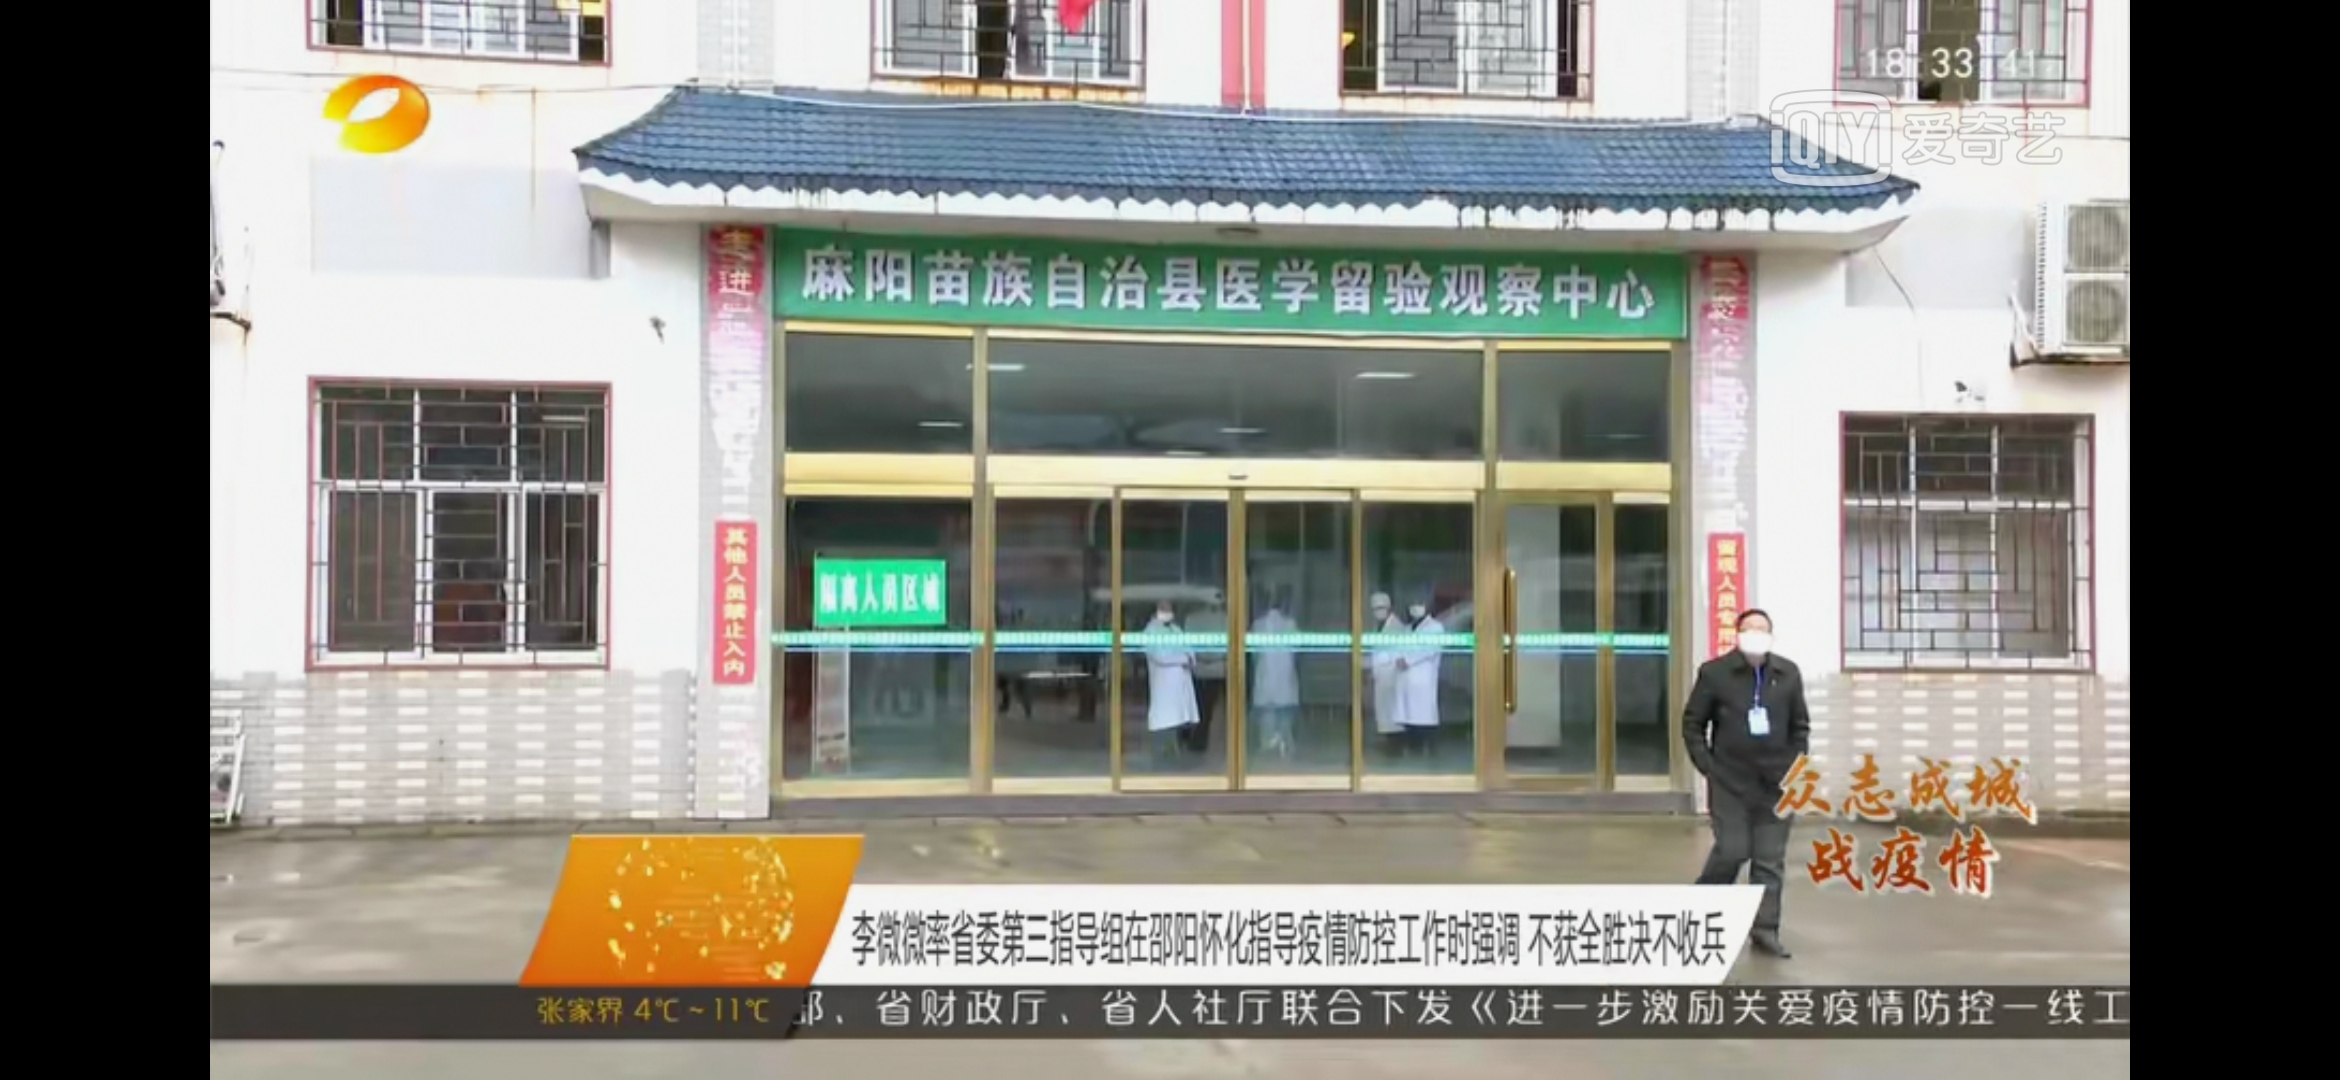correctlyWear: (1736, 618, 1774, 653), (1407, 591, 1430, 619), (1368, 597, 1392, 621), (1154, 600, 1176, 625)
